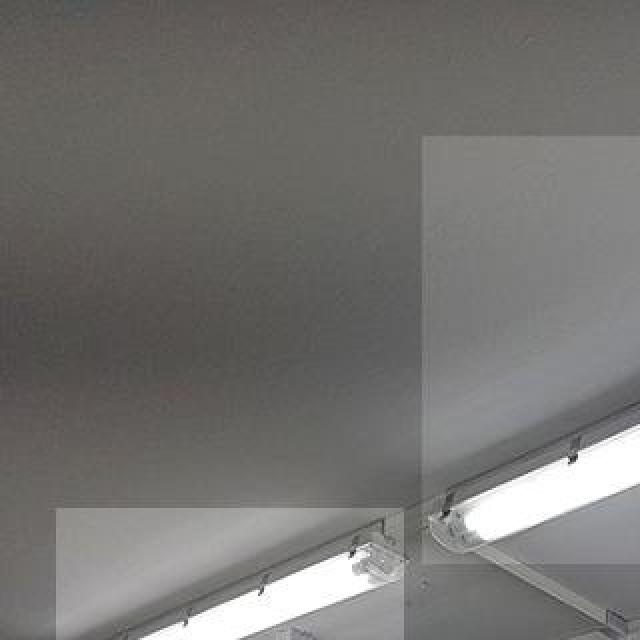fluorescent tube: (436, 136, 640, 572), (62, 530, 400, 640), (556, 630, 640, 640)
